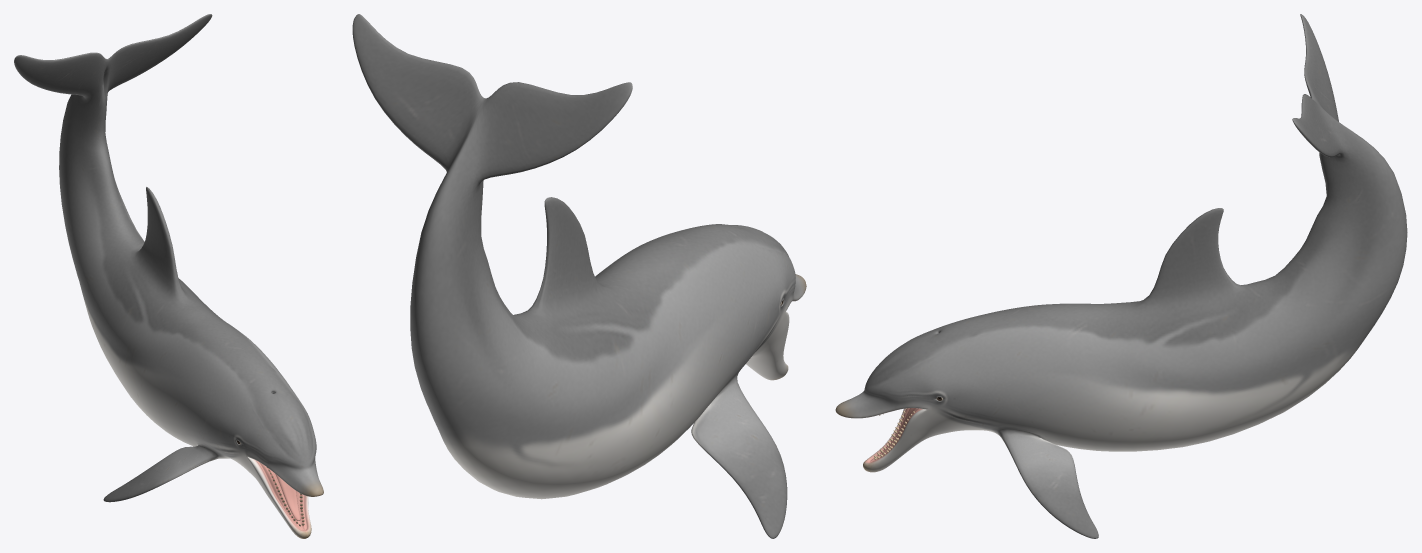
Rendered from Dolphin.fbx.
3 renders of one model, left to right at view 1: azimuth 30°, elevation 25°; view 2: azimuth 150°, elevation 25°; view 3: azimuth 270°, elevation 25°, orthographic. The views are drawn at different scales.
Visible parts, largest first — view 1: dolphin_mesh_Cube.002; view 2: dolphin_mesh_Cube.002; view 3: dolphin_mesh_Cube.002.
Boxes of the visible parts, x1=… form: dolphin_mesh_Cube.002: x1=14, y1=14, x2=323, y2=538; dolphin_mesh_Cube.002: x1=352, y1=14, x2=806, y2=538; dolphin_mesh_Cube.002: x1=835, y1=14, x2=1407, y2=538.
Bounding box in the file's own units: 97.85 × 177 × 218.
